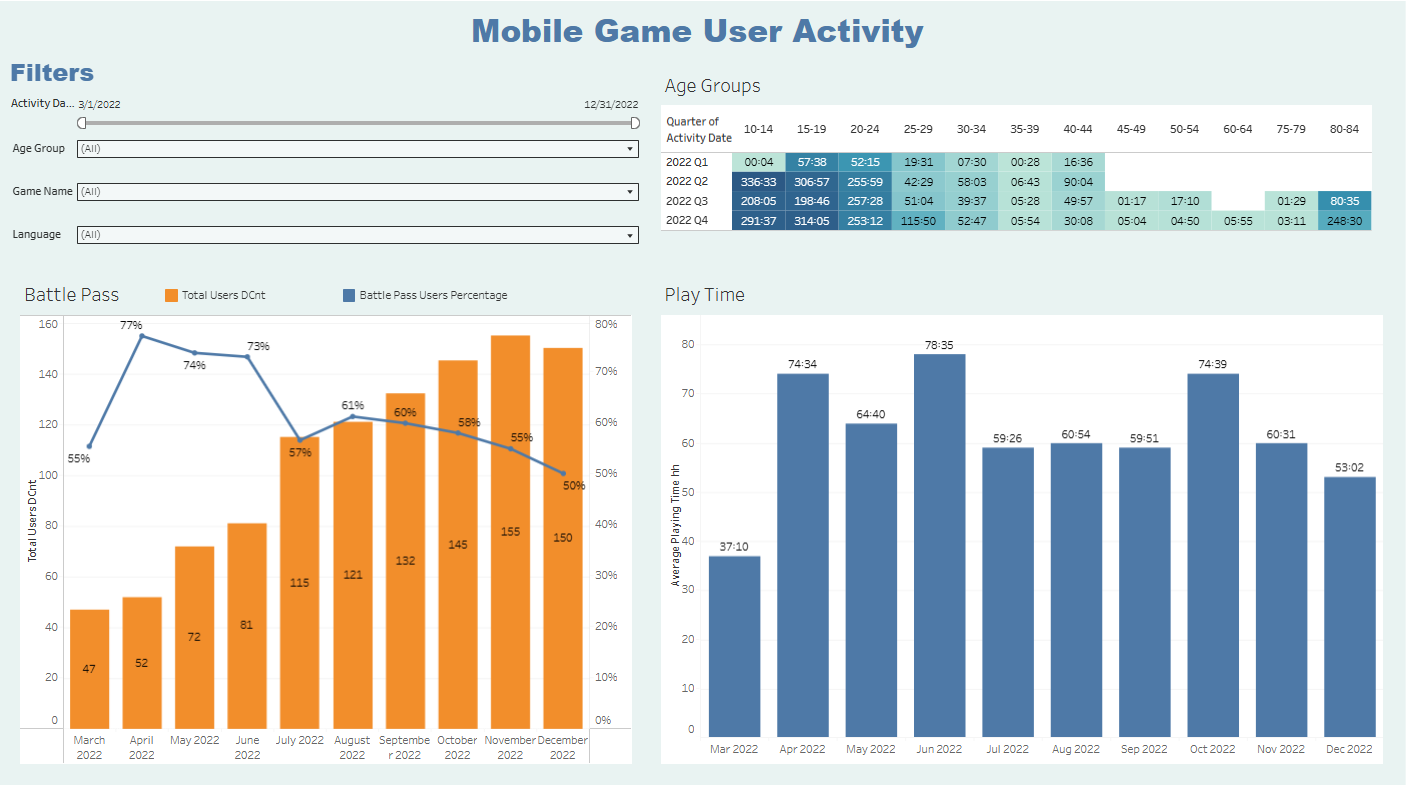

The page's visual inventory and layout, read from the dashboard file:
{"tool":"tableau","page":{"name":"User Activity Dashboard","canvas":[1600,900],"ordinal":0},"visuals":[{"type":"text","box":[16,16,1568,51.4]},{"type":"text","box":[16,67.4,721,41.9]},{"type":"worksheet","title":"Age Groups","mark":"Square","rows":["activity_date"],"cols":["Calculation_2440113606373384"],"box":[737,67.4,847,235.3]},{"type":"filter","title":"Age Groups","param":"[federated.0dx9rtz1ky1ets11jomuh0o1ddvx].[none:activity_date:qk]","box":[16,109.2,721,48.4]},{"type":"filter","title":"Age Groups","param":"[federated.0dx9rtz1ky1ets11jomuh0o1ddvx].[none:Calculation_2440113606373384:nk]","box":[16,157.7,721,48.4]},{"type":"filter","title":"Age Groups","param":"[federated.0dx9rtz1ky1ets11jomuh0o1ddvx].[none:Calculation_2440113634160649:nk]","box":[16,206.1,721,48.4]},{"type":"filter","title":"Age Groups","param":"[federated.0dx9rtz1ky1ets11jomuh0o1ddvx].[none:language:nk]","box":[16,254.6,721,48.5]},{"type":"worksheet","title":"Play Time","mark":"Bar","rows":["Calculation_2440113601220614"],"cols":["activity_date"],"box":[737,302.7,847,581.3]},{"type":"worksheet","title":"Battle Pass","mark":"Automatic","rows":["Calculation_2440113589313536","Calculation_2440113592143875"],"cols":["activity_date"],"box":[16,303.1,721,580.9]},{"type":"legend","title":"Battle Pass","param":"[federated.0dx9rtz1ky1ets11jomuh0o1ddvx].[:Measure Names]","box":[192,330,525,29]}]}

Visuals, with their boxes in screenshot pixels (x1, y1, x2, y2), scaled from the page's 1600x900 canvas onto the 1406x785 screenshot:
text: (14, 14, 1392, 59)
text: (14, 59, 648, 95)
"Age Groups" worksheet (Square marks): (648, 59, 1392, 264)
"Age Groups" filter: (14, 95, 648, 137)
"Age Groups" filter: (14, 138, 648, 180)
"Age Groups" filter: (14, 180, 648, 222)
"Age Groups" filter: (14, 222, 648, 264)
"Play Time" worksheet (Bar marks): (648, 264, 1392, 771)
"Battle Pass" worksheet: (14, 264, 648, 771)
"Battle Pass" legend: (169, 288, 630, 313)
